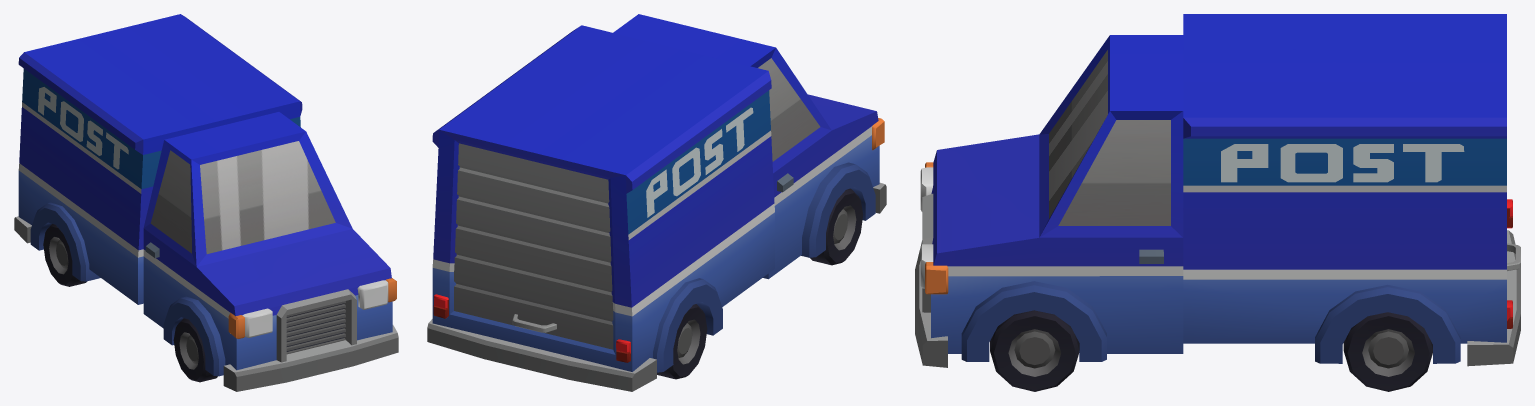
Rendered from PostCar_1.fbx.
3 views of the same model, side by side, from view 1: azimuth 30°, elevation 25°; view 2: azimuth 150°, elevation 25°; view 3: azimuth 270°, elevation 25° (orthographic). The views are drawn at different scales.
Visible parts, largest first — view 1: PostCar_1, Wheel_FR, Wheel_BR; view 2: PostCar_1, Wheel_FR, Wheel_BR; view 3: PostCar_1, Wheel_FL, Wheel_BL.
Part boxes in pixels (<box>): PostCar_1: <box>14,14,398,391</box>; Wheel_FR: <box>173,318,217,382</box>; Wheel_BR: <box>43,224,86,286</box>; PostCar_1: <box>427,14,886,391</box>; Wheel_FR: <box>810,188,863,265</box>; Wheel_BR: <box>657,304,707,379</box>; PostCar_1: <box>915,14,1520,367</box>; Wheel_FL: <box>990,310,1079,391</box>; Wheel_BL: <box>1343,312,1432,391</box>.
Size of the model in its own units: 118 by 124 by 251.
